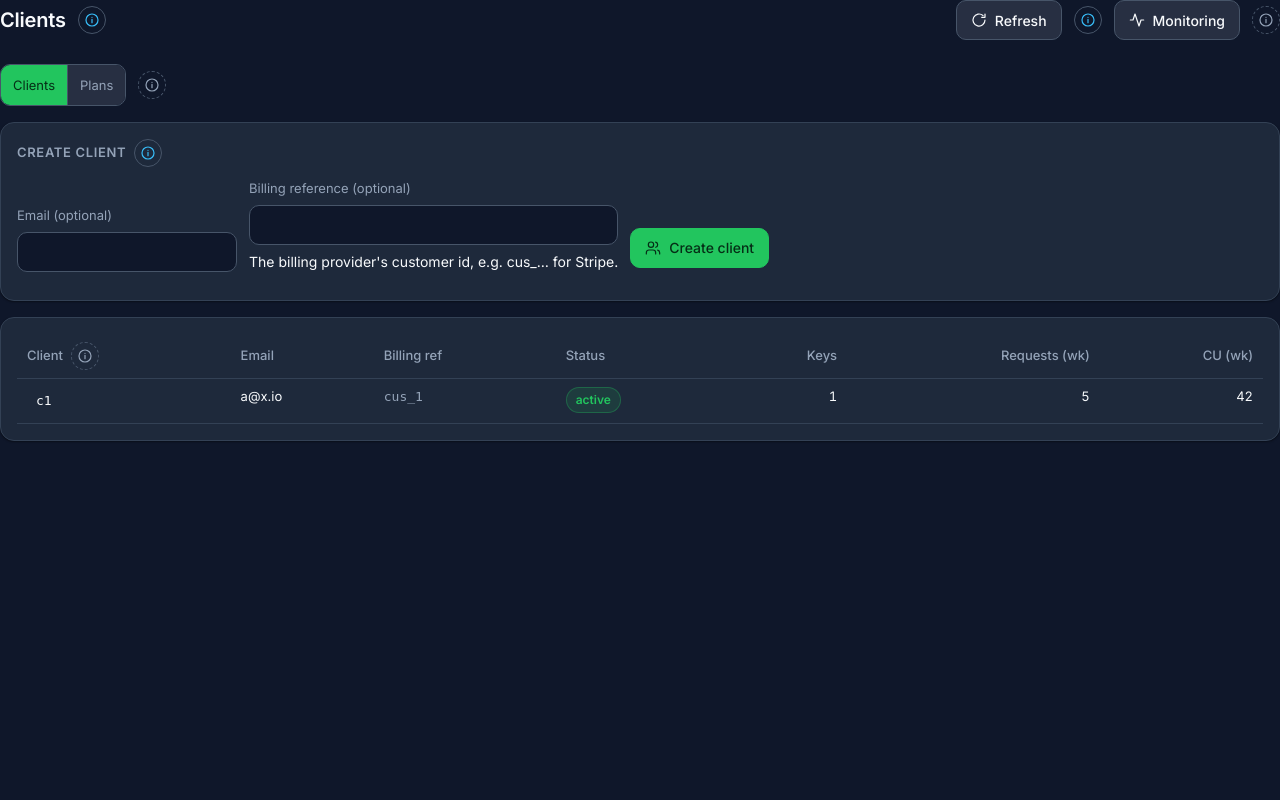
it: wiring coverage of dashboard controls › Clients: plans tab, edit, and the update dialog
The width and height of the screenshot is (1280, 800).
Step 1. Click the tab "Plans" → x=96, y=85, box [67, 65, 125, 105]
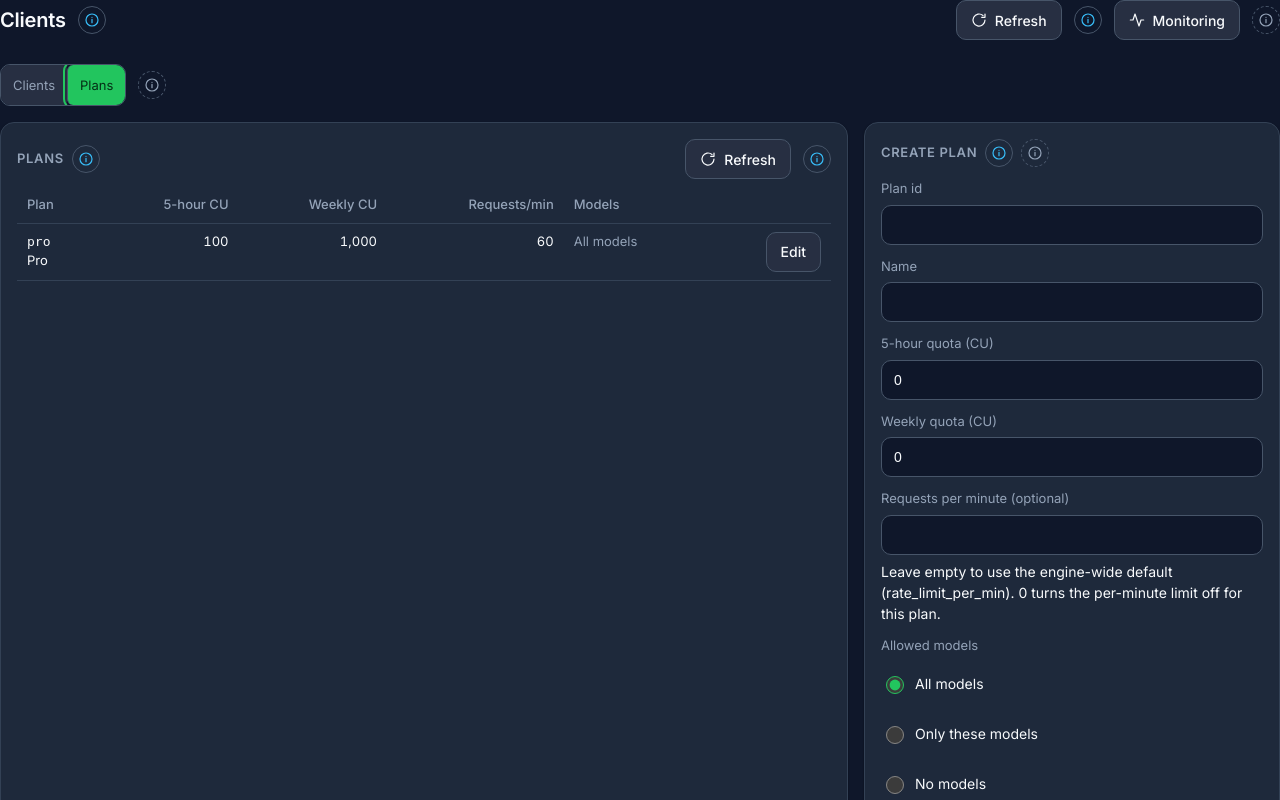
Expected: the button named "How this works: Clients" is shown, [78, 6, 106, 34]
Result: the text "Pro" is shown at [27, 252, 48, 268]
Step 2. Click the button with aria-label "Edit plan pro" → x=793, y=252, box [766, 232, 821, 272]
(page scrolled)
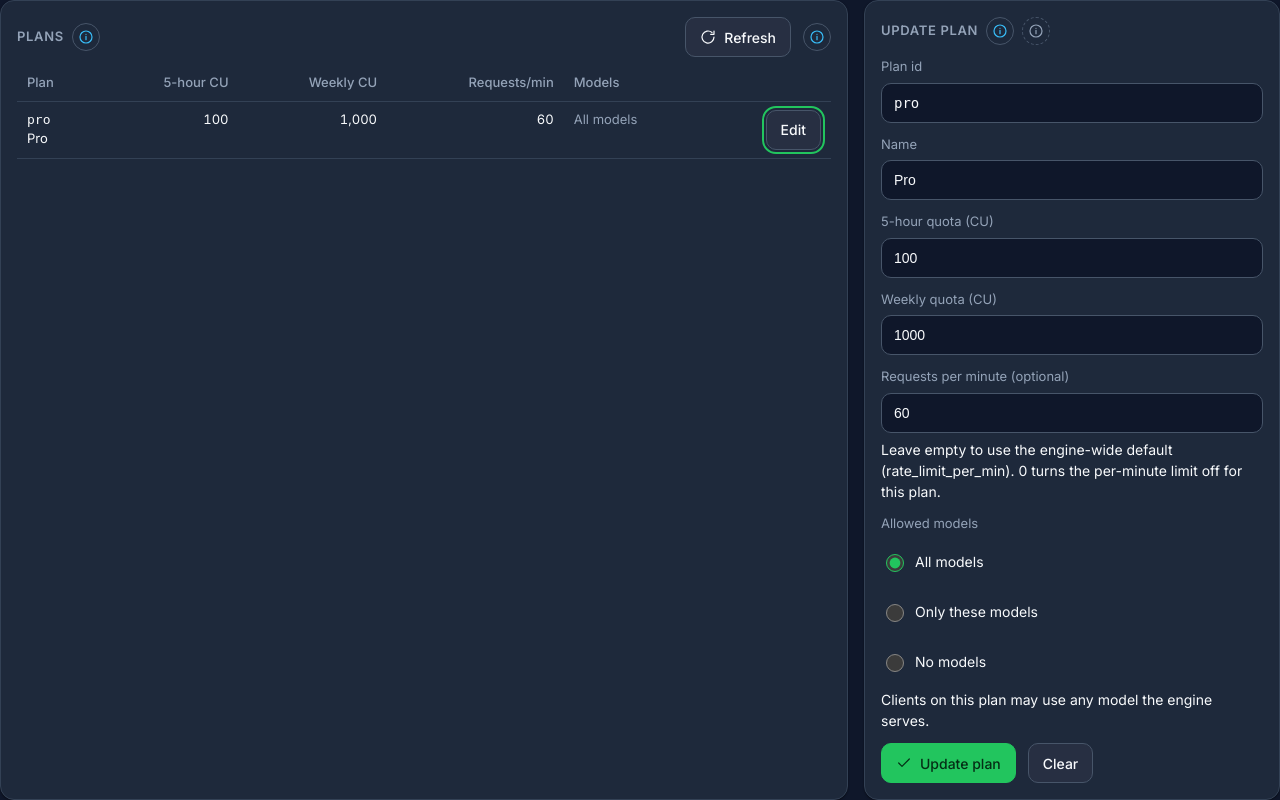
Expected: the button named "How this works: Plans" is shown, [72, 23, 100, 51]
Expected: the button named "How this works: Create or update plan" is shown, [986, 17, 1014, 45]
Step 3. Click the button "Update plan" → x=948, y=763, box [881, 743, 1016, 783]
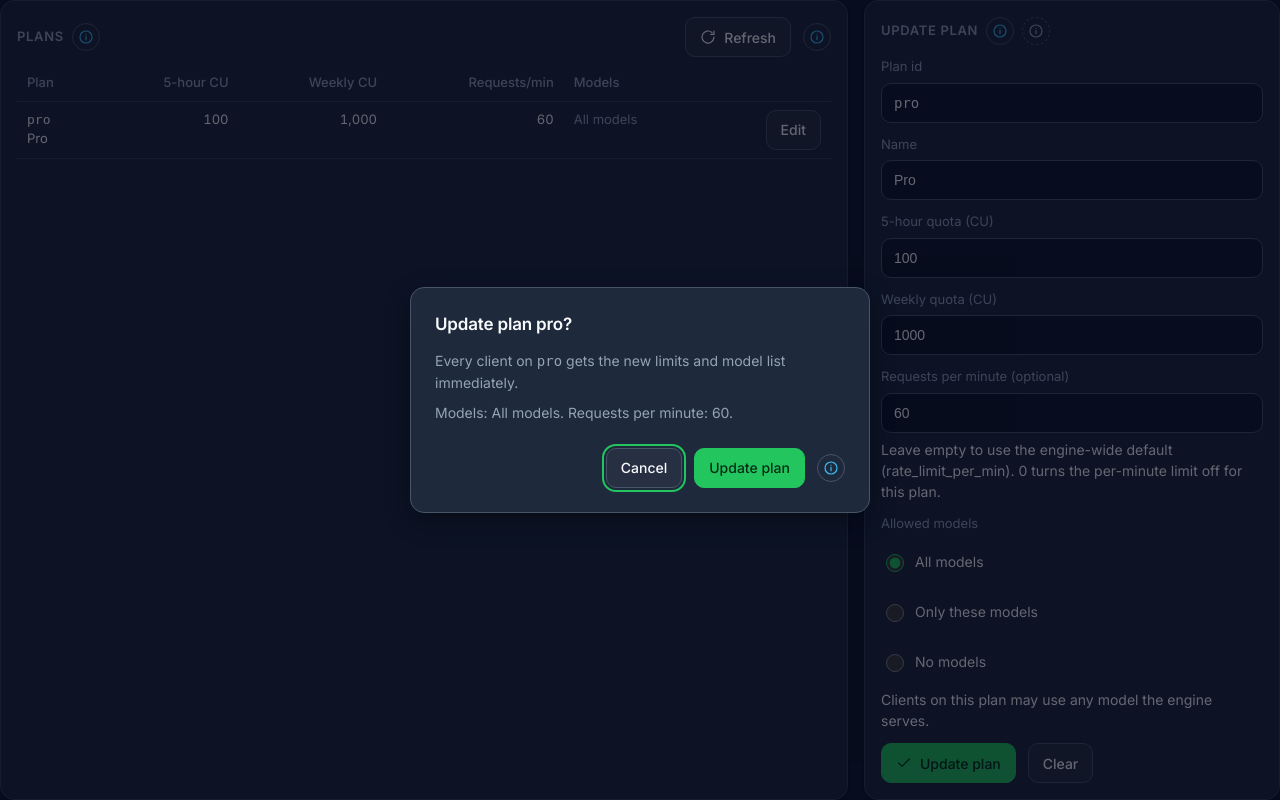
Result: the button named "How this works: Update plan" is shown at [817, 454, 845, 482]
